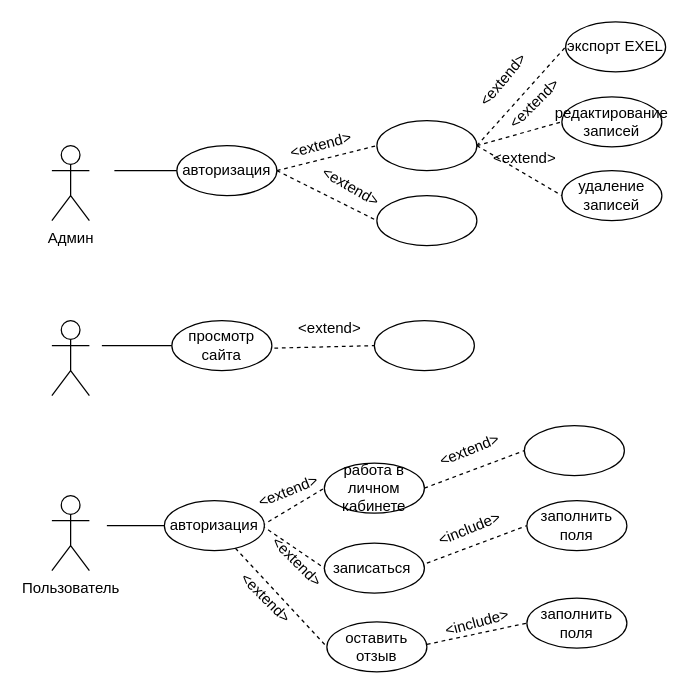
Image size: 690x694. Some labels were removed from this diagram. The box of each missing label's shape, as (x1, y1, x2, y2) in pixels:
выход: (523, 424, 624, 476)
Гость: (51, 319, 89, 396)
просмотр записей: (376, 119, 477, 171)
регистрация: (373, 319, 474, 371)
редактирование контента: (376, 194, 477, 246)
